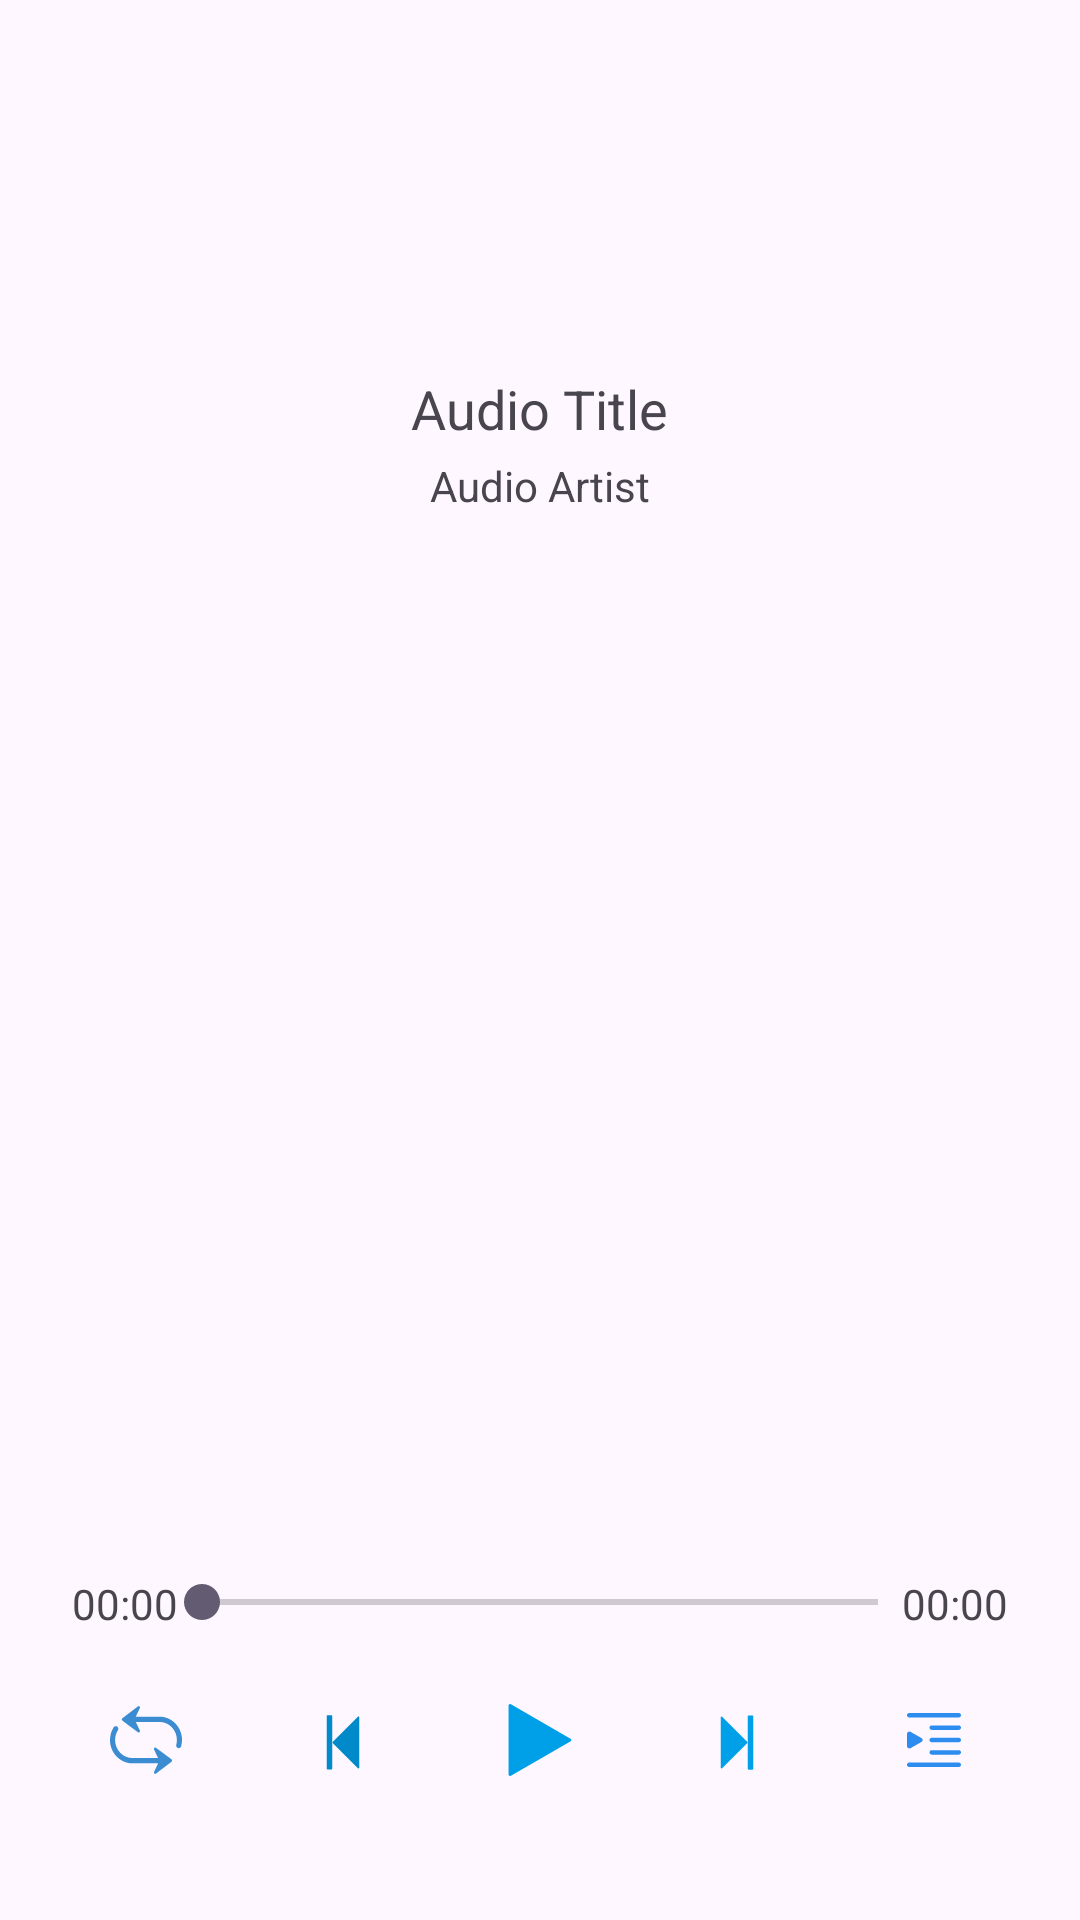

Icons on this 1080w x 1920h Android screen, each with the point to tap as (x=x, y=y):
Loop: (x=146, y=1740)
Next: (x=737, y=1742)
Play: (x=540, y=1740)
Playlist: (x=934, y=1740)
Prev: (x=343, y=1742)
